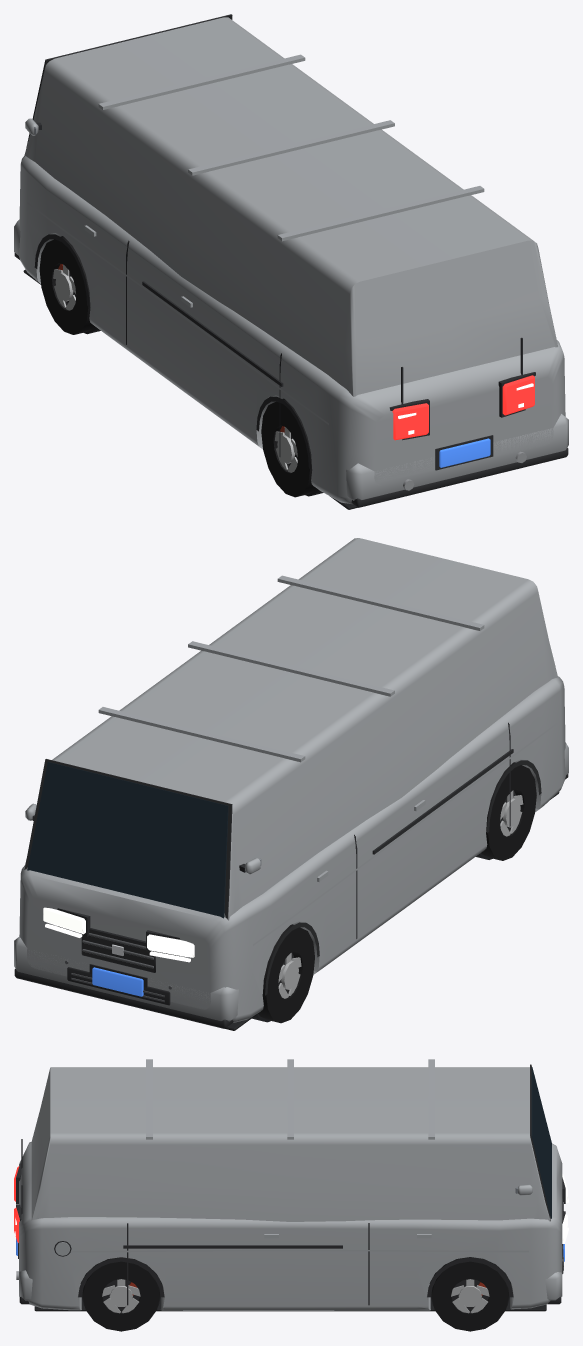
File: car_van_cargo_silver.glb
3 renders of one model, top to bottom at view 1: azimuth 30°, elevation 25°; view 2: azimuth 150°, elevation 25°; view 3: azimuth 270°, elevation 25°, orthographic. The views are drawn at different scales.
Visible parts, largest first — view 1: Body, Trim, Wheel_FL, Wheel_RL, Lights, Plate_R; view 2: Body, Glass, Trim, Wheel_FL, Wheel_RL, Lights, Plate_F; view 3: Body, Trim, Wheel_FR, Wheel_RR, Glass, Lights.
Boxes of the visible parts, x1,y1,x2,y2 form: Body: (14, 17, 568, 504); Trim: (14, 14, 568, 509); Wheel_FL: (39, 237, 95, 334); Wheel_RL: (261, 399, 316, 497); Lights: (392, 375, 534, 440); Plate_R: (439, 438, 490, 467); Body: (14, 538, 568, 1022); Glass: (27, 762, 261, 918); Trim: (14, 575, 568, 1030); Wheel_FL: (258, 925, 314, 1023); Wheel_RL: (481, 763, 536, 860); Lights: (43, 907, 194, 962); Plate_F: (92, 967, 143, 996); Body: (19, 1067, 562, 1310); Trim: (16, 1059, 565, 1311); Wheel_FR: (431, 1257, 508, 1331); Wheel_RR: (82, 1257, 159, 1331); Glass: (515, 1067, 551, 1218); Lights: (14, 1166, 568, 1243).
Size of the model in its own units: 2.04 by 2.02 by 5.31.
